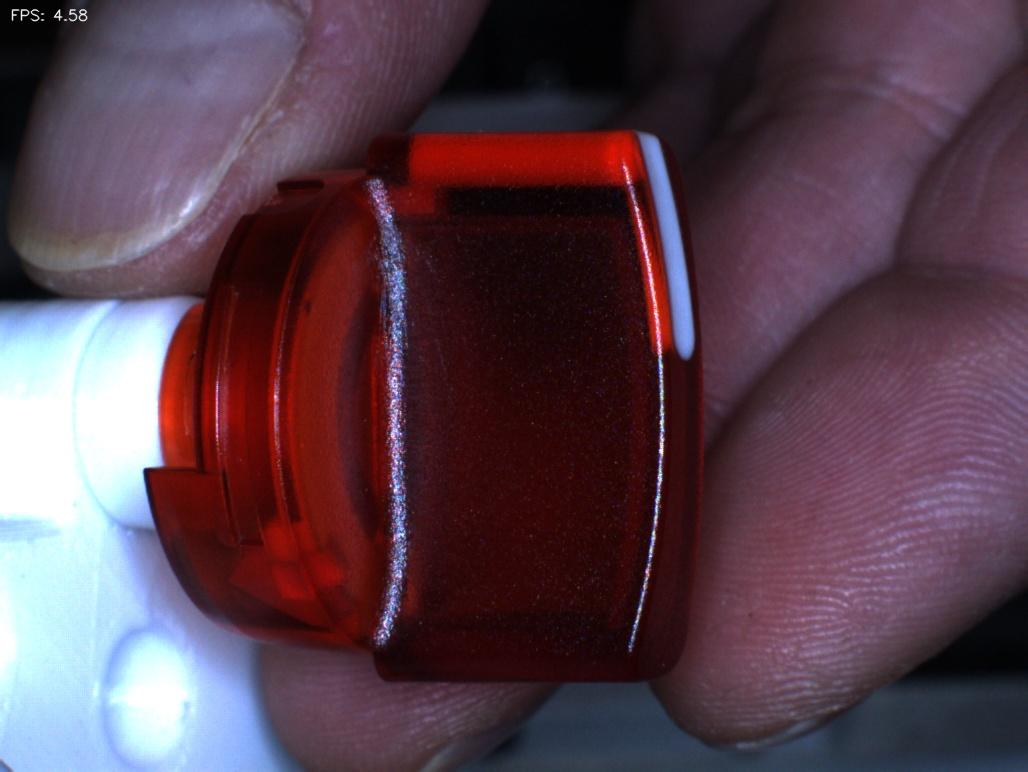Givrage: (365, 231, 453, 380)
